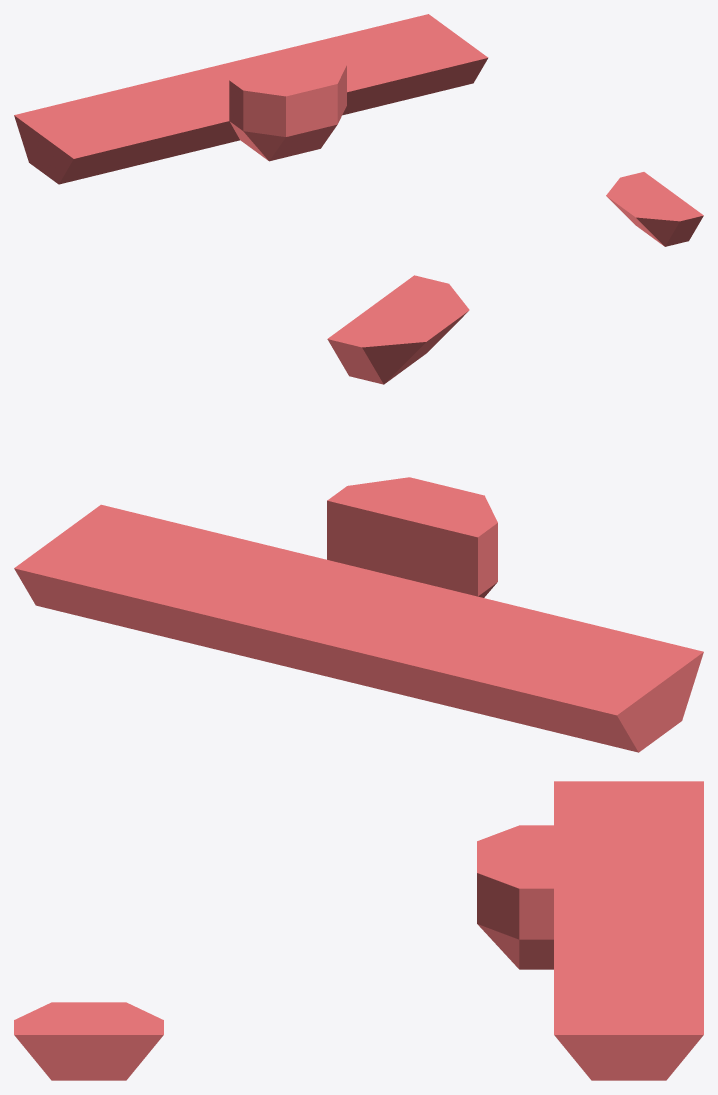
Rendered from building_bridges_lp.FBX.
The picture shows the model from 3 angles, top to bottom: view 1: azimuth 30°, elevation 25°; view 2: azimuth 150°, elevation 25°; view 3: azimuth 270°, elevation 25°; orthographic projection. The views are drawn at different scales.
Visible parts, largest first — view 1: level_building_bridge; view 2: level_building_bridge; view 3: level_building_bridge.
Boxes of the visible parts, <box> form: level_building_bridge: <box>14,14,703,246</box>; level_building_bridge: <box>14,275,703,752</box>; level_building_bridge: <box>14,781,703,1080</box>.
Bounding box in the file's own units: 394 × 453 × 70.11.
